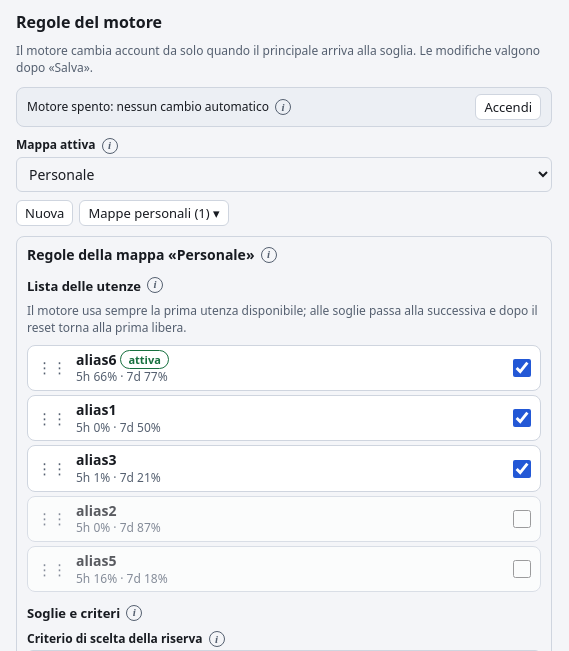
Scenario: «i» nelle pagine › Regole: preset in sola lettura e modello
The image size is (569, 651).
Select "Sport" in the dropdown labelled "Mappa attiva" at (284,174), box left=16, top=157, right=552, bottom=192
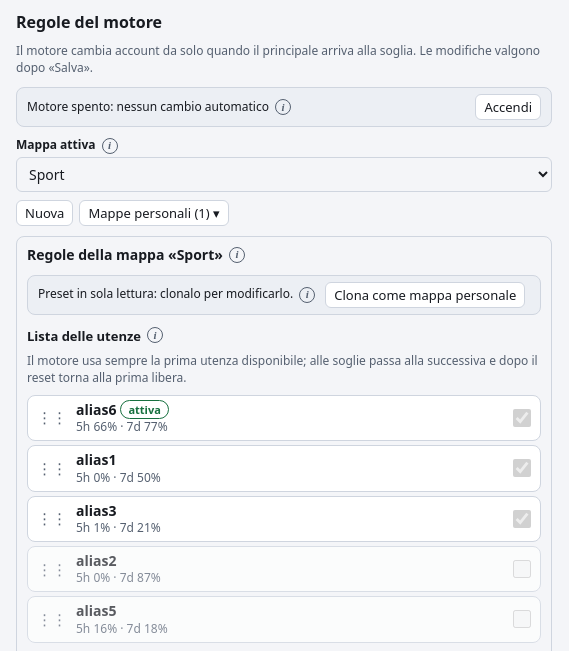
Check: the element with test id "map-readonly" is shown, box left=27, top=275, right=541, bottom=315
Check: the button named "Informazioni su preset" is shown, box left=299, top=287, right=315, bottom=303
